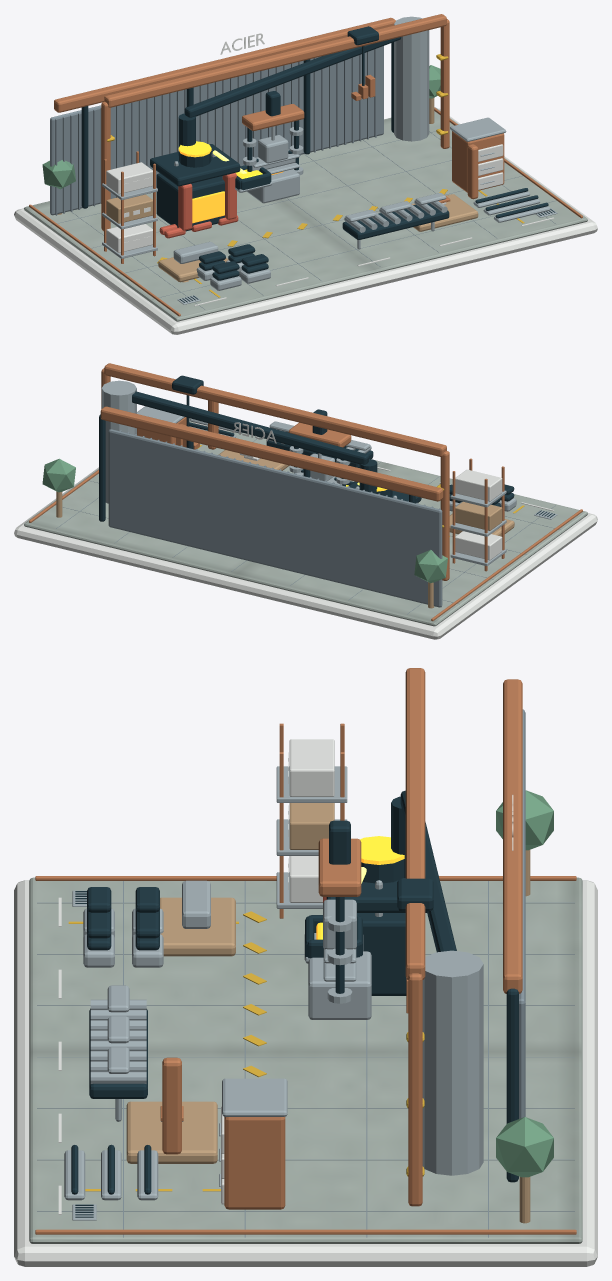
File: terrain.glb
3 views of the same model, one above another, from view 1: azimuth 30°, elevation 25°; view 2: azimuth 150°, elevation 25°; view 3: azimuth 270°, elevation 25° (orthographic). The views are drawn at different scales.
Parts seen in each view (by area): view 1: Activity ground, StaticWorkshop_2, StaticWorkshop_1, StaticWorkshop_4, StaticWorkshop_0, StaticWorkshop_6, StaticWorkshop_8, StaticWorkshop_5, StaticWorkshop_9, StaticWorkshop_7, MachineForgeHammer, StaticWorkshop_3 (+2 smaller); view 2: StaticWorkshop_2, Activity ground, StaticWorkshop_1, StaticWorkshop_0, StaticWorkshop_4, StaticWorkshop_6, StaticWorkshop_8, StaticWorkshop_9, Gantry trolley; view 3: Activity ground, StaticWorkshop_1, StaticWorkshop_0, StaticWorkshop_6, StaticWorkshop_4, StaticWorkshop_8, StaticWorkshop_2, StaticWorkshop_9, Raw steel billet, StaticWorkshop_3, MachineForgeHammer, Gantry trolley (+1 smaller).
Part boxes in pixels (bbox=[...]): Activity ground: bbox=[24, 107, 587, 321]; StaticWorkshop_2: bbox=[50, 46, 556, 309]; StaticWorkshop_1: bbox=[29, 14, 582, 316]; StaticWorkshop_4: bbox=[81, 37, 555, 302]; StaticWorkshop_0: bbox=[14, 33, 597, 334]; StaticWorkshop_6: bbox=[102, 16, 557, 304]; StaticWorkshop_8: bbox=[57, 98, 478, 282]; StaticWorkshop_5: bbox=[159, 173, 238, 238]; StaticWorkshop_9: bbox=[42, 65, 440, 189]; StaticWorkshop_7: bbox=[192, 191, 224, 223]; MachineForgeHammer: bbox=[258, 135, 288, 163]; StaticWorkshop_3: bbox=[107, 54, 524, 297]; StaticWorkshop_2: bbox=[55, 429, 560, 614]; Activity ground: bbox=[24, 418, 587, 626]; StaticWorkshop_1: bbox=[29, 363, 582, 621]; StaticWorkshop_0: bbox=[14, 422, 597, 639]; StaticWorkshop_4: bbox=[99, 391, 554, 521]; StaticWorkshop_6: bbox=[101, 380, 557, 565]; StaticWorkshop_8: bbox=[56, 450, 514, 608]; StaticWorkshop_9: bbox=[42, 458, 447, 583]; Gantry trolley: bbox=[172, 375, 203, 394]; Activity ground: bbox=[29, 877, 582, 1243]; StaticWorkshop_1: bbox=[35, 668, 576, 1234]; StaticWorkshop_0: bbox=[14, 739, 597, 1266]; StaticWorkshop_6: bbox=[64, 766, 483, 1220]; StaticWorkshop_4: bbox=[71, 790, 518, 1217]; StaticWorkshop_8: bbox=[126, 803, 530, 1223]; StaticWorkshop_2: bbox=[37, 709, 574, 1237]; StaticWorkshop_9: bbox=[496, 790, 553, 1177]; Raw steel billet: bbox=[182, 880, 210, 928]; StaticWorkshop_3: bbox=[68, 911, 424, 1191]; MachineForgeHammer: bbox=[323, 899, 356, 949]; Gantry trolley: bbox=[397, 878, 433, 911].
Size of the model in its own units: 7.3 by 2.48 by 4.8.
Materials: 18 (1 with a texture image).
